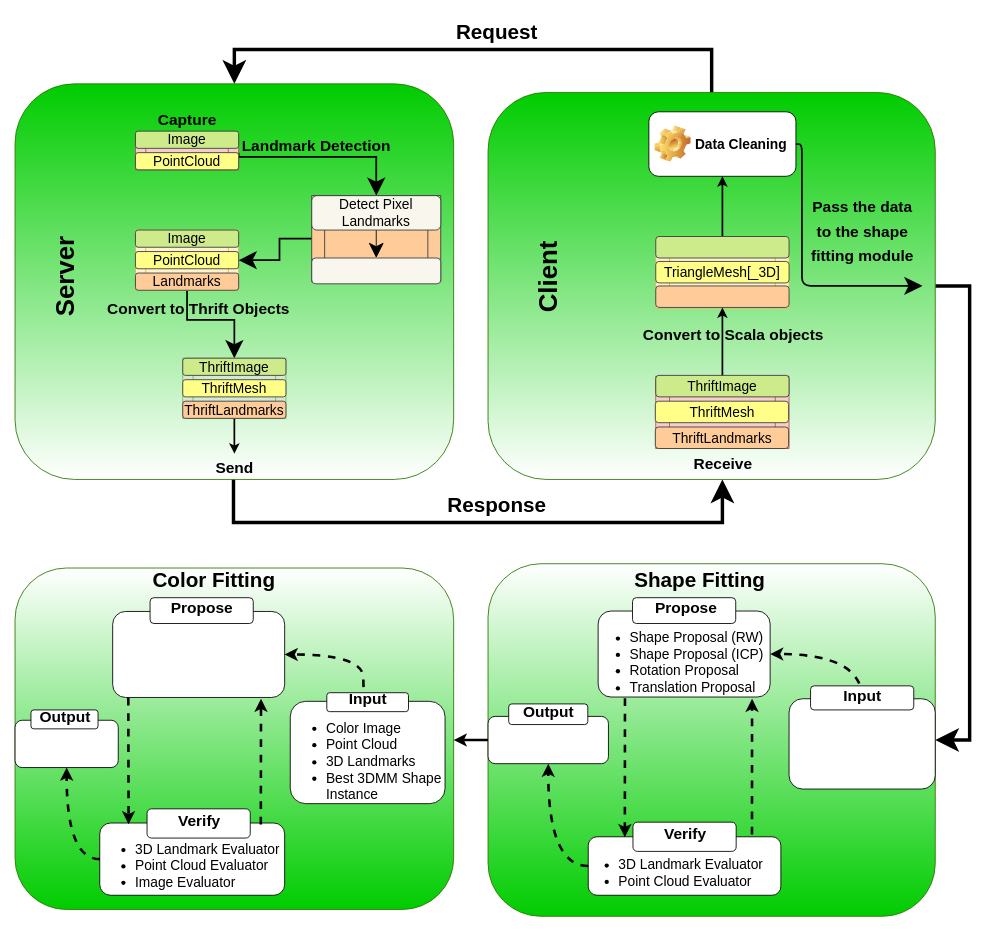
Image size: 1001x931. Some labels were removed from this diagram. The shapes that lost their labels are listed below. From the top down, each one's centre as x and y in pixels, then its label:
pixel 722 247: PixelImage[RGB]
pixel 376 270: De-project to Points
pixel 722 296: Landmark[_3D]
pixel 198 654: Color Proposal Illumination Proposal Shape Proposal Pose Proposal
pixel 66 743: Best 3DMM Instance
pixel 547 740: Best 3DMM Shape Instance
pixel 861 743: Color Image Point Cloud 3D Landmarks
